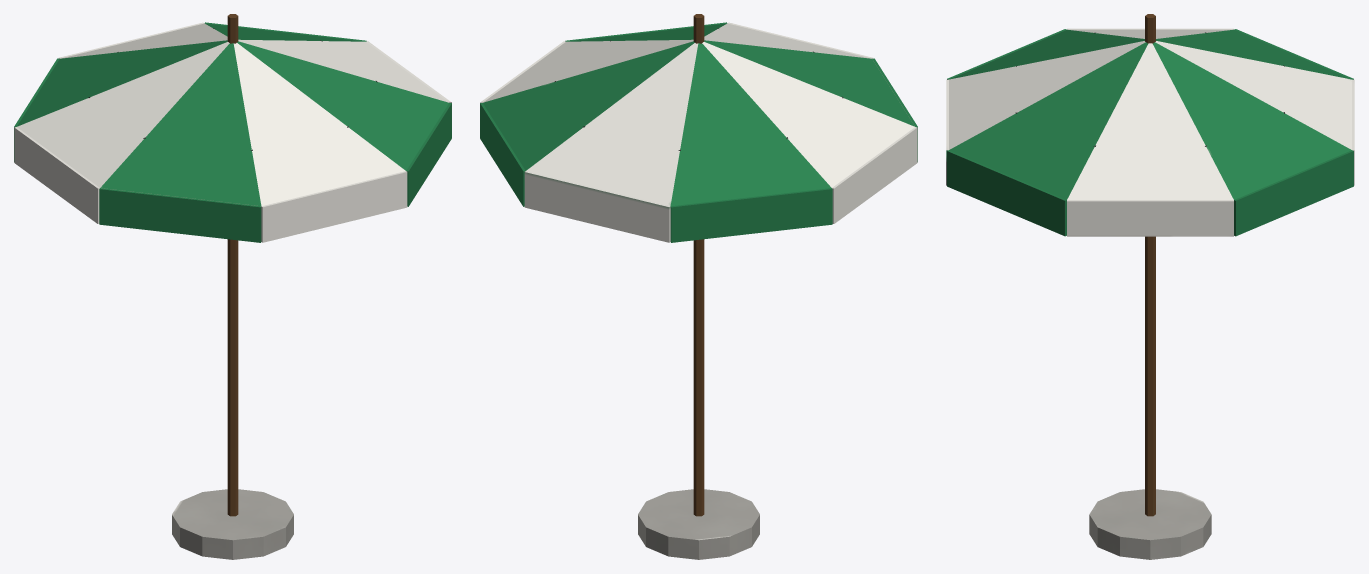
The model's file is slunecnik_b31cffe8.glb.
The picture shows the model from 3 angles, left to right: view 1: azimuth 30°, elevation 25°; view 2: azimuth 150°, elevation 25°; view 3: azimuth 270°, elevation 25°; orthographic projection.
Visible parts, largest first — view 1: dum; view 2: dum; view 3: dum.
Part boxes in pixels (<box>): dum: <box>14,14,451,559</box>; dum: <box>480,14,917,559</box>; dum: <box>946,14,1354,559</box>.
Bounding box in the file's own units: 1.87 × 2.61 × 1.87.
1 material, 1 textured.
